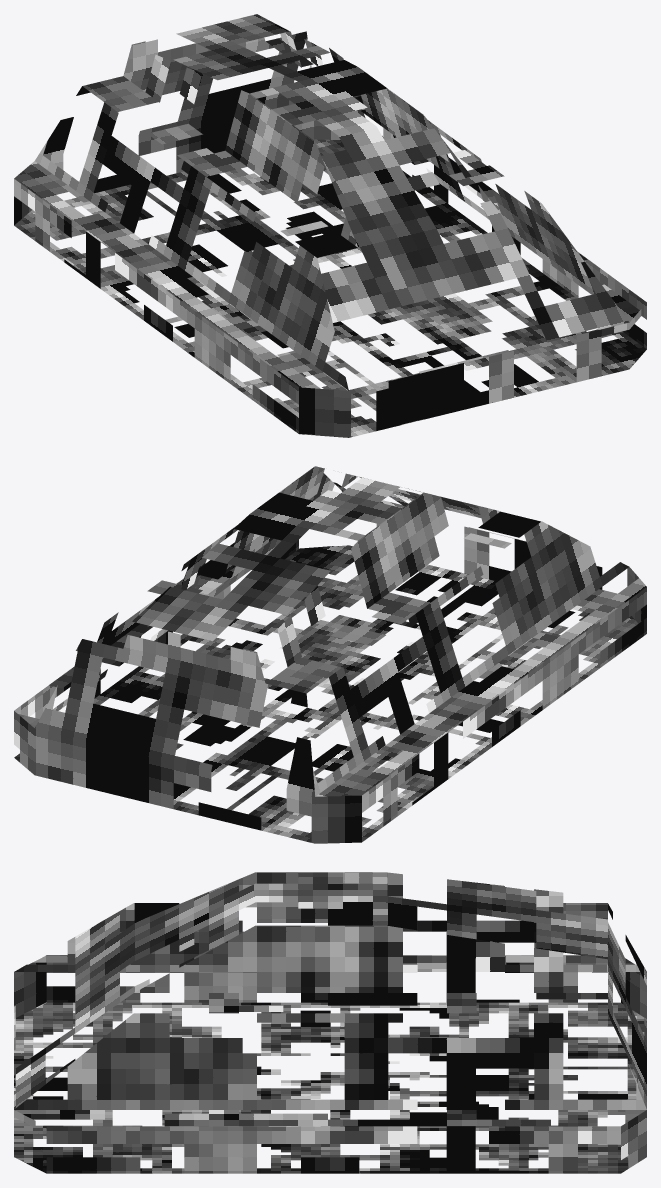
Rendered from trooptransportprop_dam.glb.
3 renders of one model, top to bottom at view 1: azimuth 30°, elevation 25°; view 2: azimuth 150°, elevation 25°; view 3: azimuth 270°, elevation 25°, orthographic.
Parts seen in each view (by area): view 1: TroopTransportL1; view 2: TroopTransportL1; view 3: TroopTransportL1.
Part boxes in pixels (x1,y1,x2,y2): TroopTransportL1: [14, 14, 646, 437]; TroopTransportL1: [14, 466, 646, 843]; TroopTransportL1: [14, 872, 646, 1173].
Bounding box in the file's own units: 4.34 × 2.24 × 6.78.
Materials: 1 (1 with a texture image).
